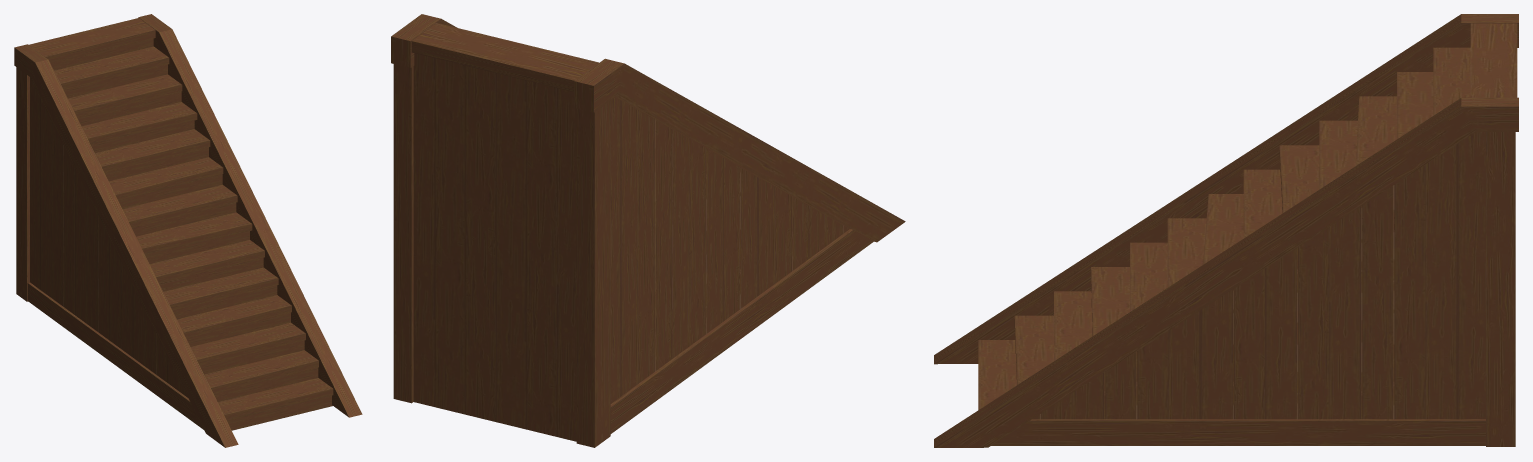
Rendered from Stair_Interior_Solid.gltf.
3 renders of one model, left to right at view 1: azimuth 30°, elevation 25°; view 2: azimuth 150°, elevation 25°; view 3: azimuth 270°, elevation 25°, orthographic. The views are drawn at different scales.
Visible parts, largest first — view 1: Stair_Interior_Solid; view 2: Stair_Interior_Solid; view 3: Stair_Interior_Solid.
Part boxes in pixels (box(x1,y1,x2,y2)): Stair_Interior_Solid: box(14, 14, 362, 447); Stair_Interior_Solid: box(391, 14, 905, 447); Stair_Interior_Solid: box(934, 14, 1518, 447).
Size of the model in its own units: 1.77 by 3.05 by 4.71.
Materials: 1 (1 with a texture image).
